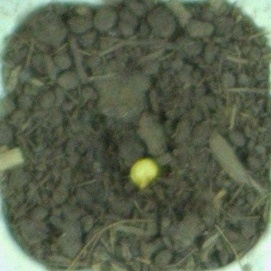pepper seed: (48, 63, 207, 253)
